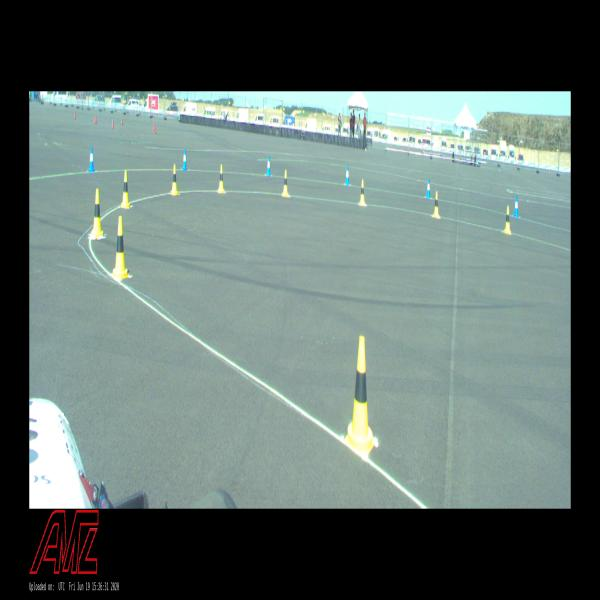blue_cone: (88, 146, 95, 174), (344, 164, 350, 186), (182, 148, 187, 171), (266, 155, 271, 177), (426, 177, 431, 199), (514, 194, 518, 219)
yellow_cone: (346, 337, 375, 455), (112, 215, 131, 279), (91, 189, 104, 239), (121, 169, 130, 209), (170, 163, 178, 195), (503, 207, 512, 235), (432, 190, 440, 218), (218, 164, 225, 193), (282, 169, 289, 197), (359, 179, 366, 206)
